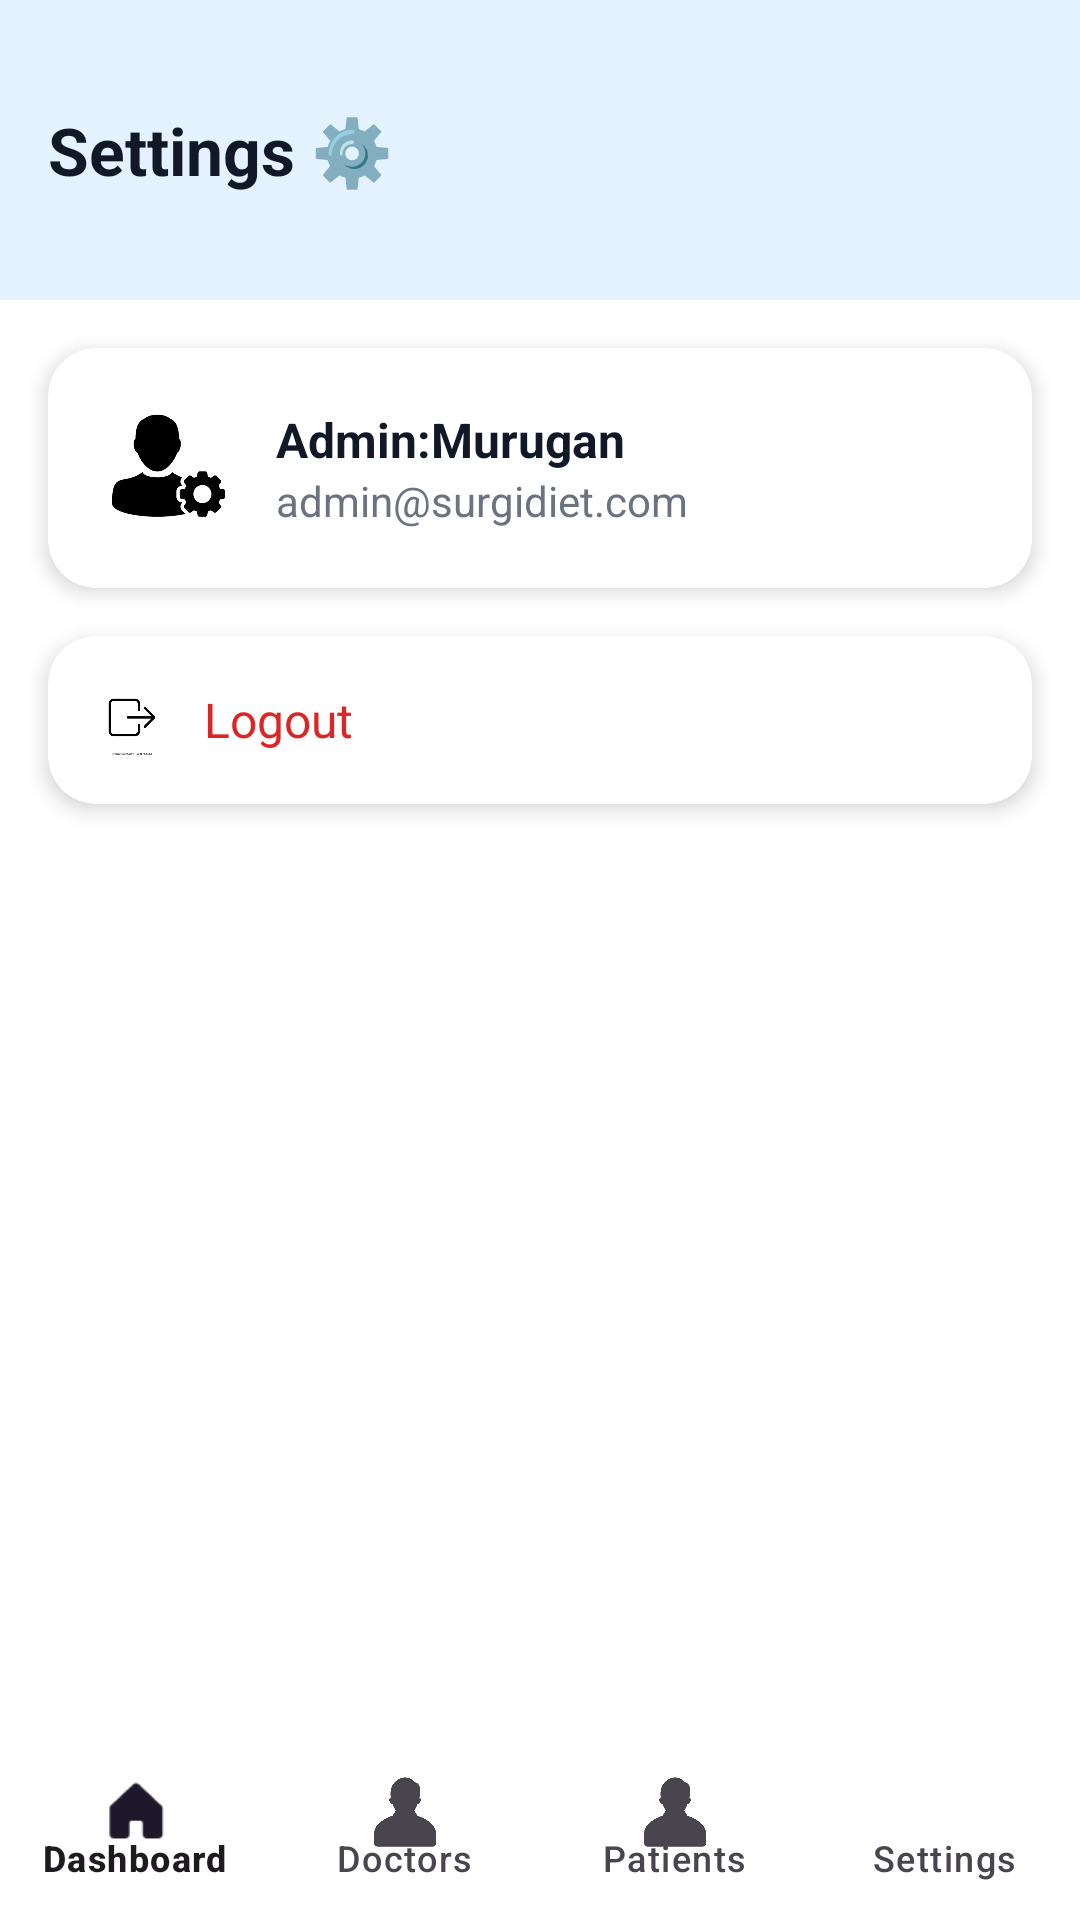

Screen size 1080px x 1920px. Icon name, then its box in pixels as (x1, y1, x2, y2):
Profile Icon: (112, 415, 225, 517)
